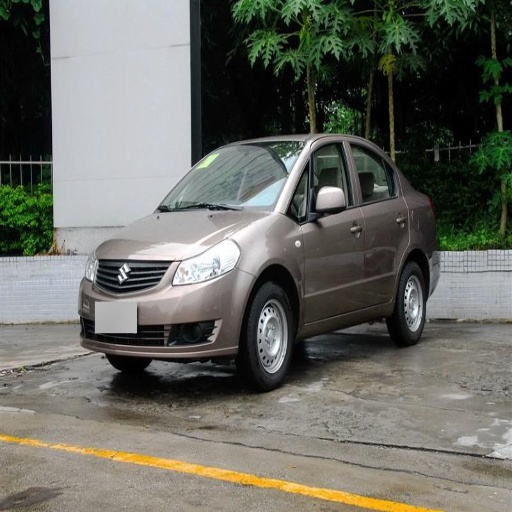front_bumper: (77, 245, 253, 359)
front_glass: (159, 142, 302, 211)
front_left_door: (293, 139, 364, 323)
